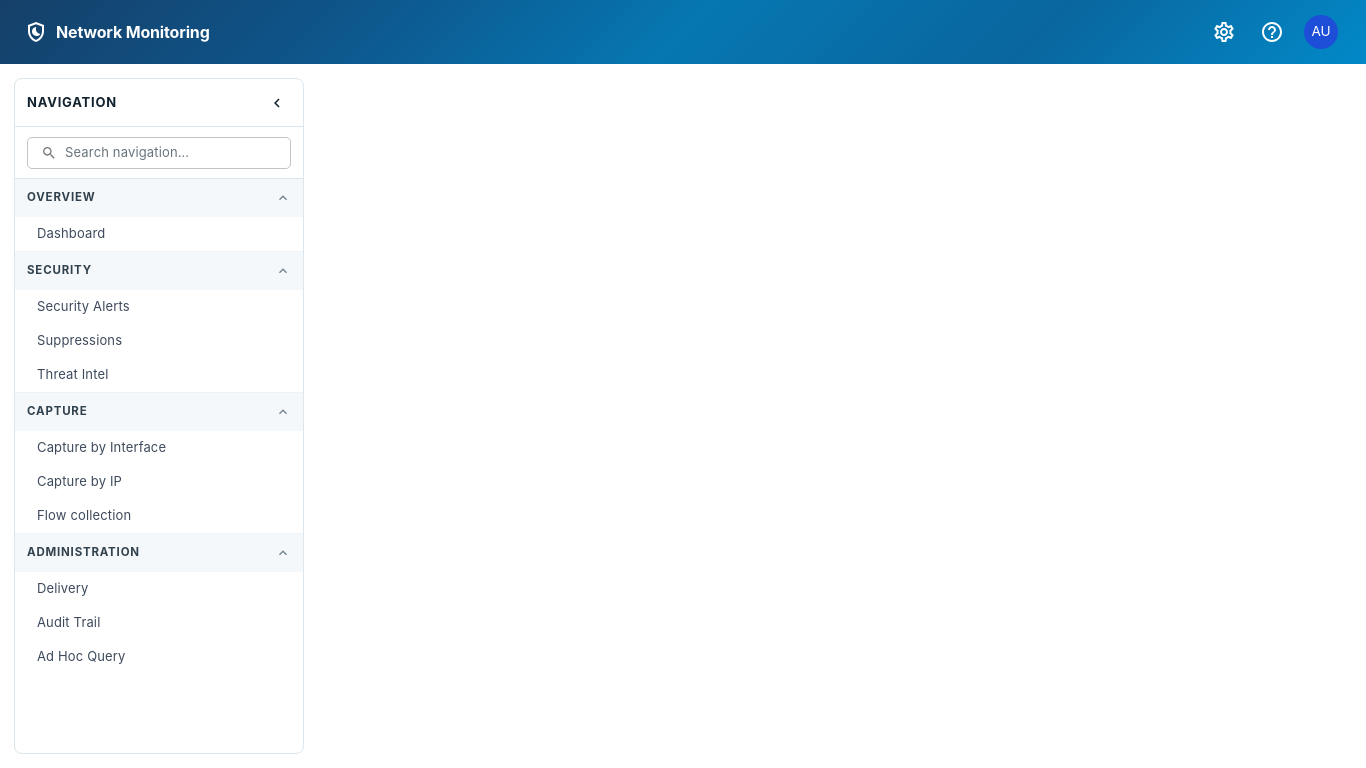
Test: AppLayout section disclosure › closes a section from its header row
Expected: the link "Security Alerts" is shown, x1=37 y1=298 x2=130 y2=314
Click the button "Security": (59, 270) x1=15 y1=252 x2=303 y2=290
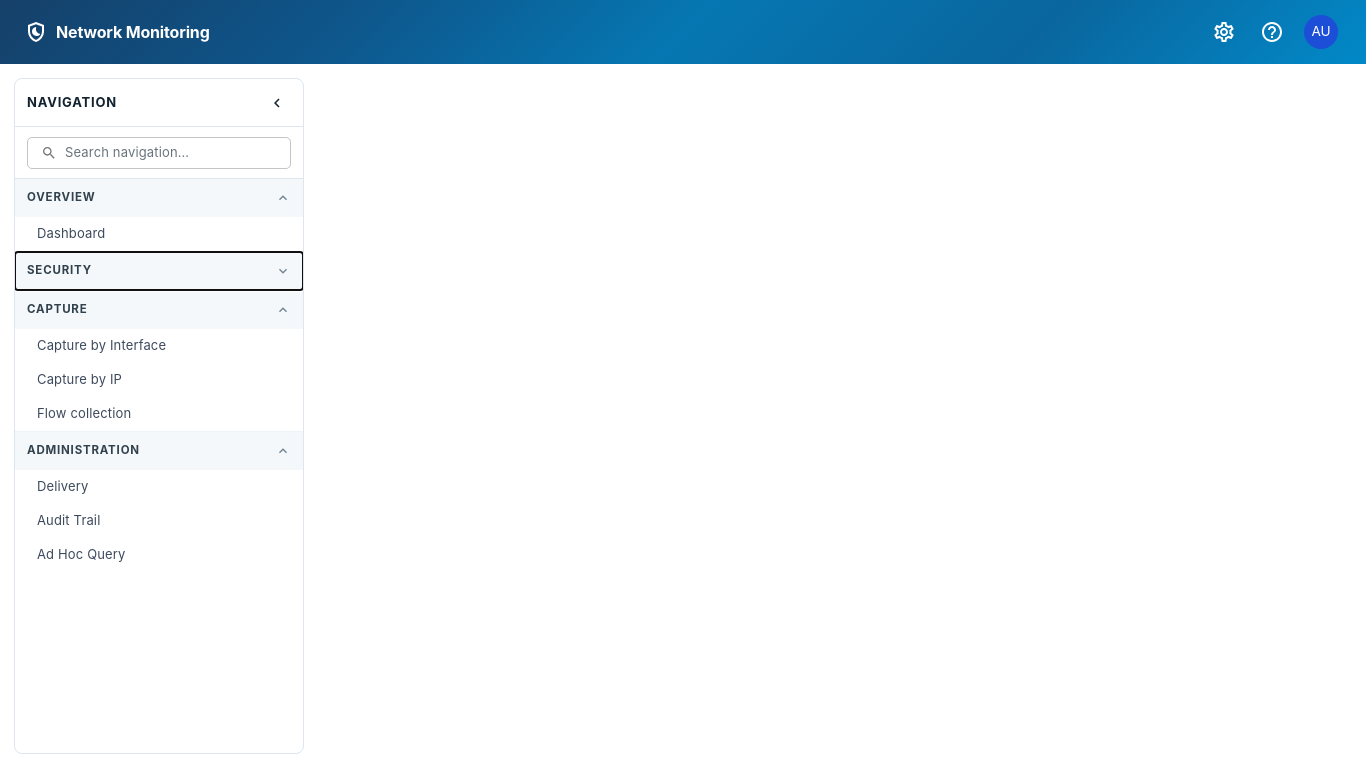
Result: the button "Security" is collapsed at x1=15 y1=252 x2=303 y2=290
